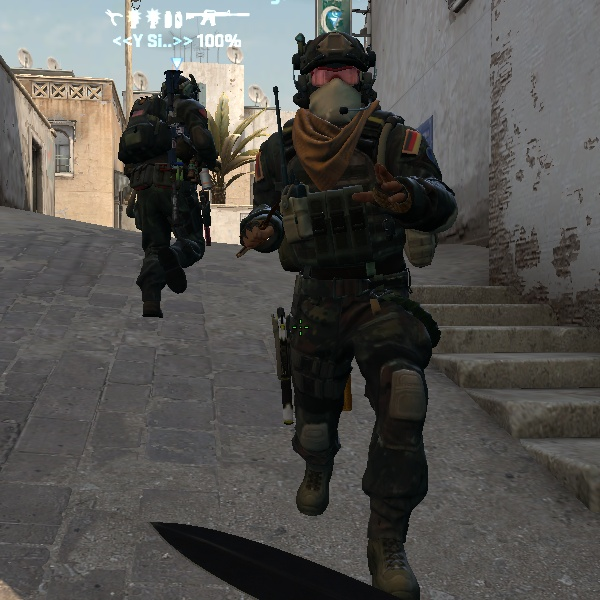ct_body: (182, 6, 507, 561), (116, 67, 226, 322)
ct_head: (285, 31, 383, 130), (153, 63, 204, 112)
